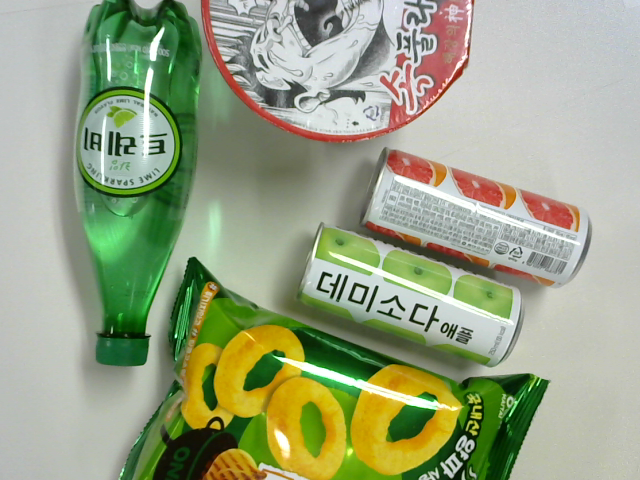Demisoda_Apple_Can_250ml: (288, 217, 535, 364)
Demisoda_Grapefruit_Can_250ml: (343, 141, 600, 290)
Grilled_Onions: (108, 271, 548, 480)
Hejangpul: (189, 1, 489, 142)
Treviraim_500ml: (64, 1, 209, 364)
